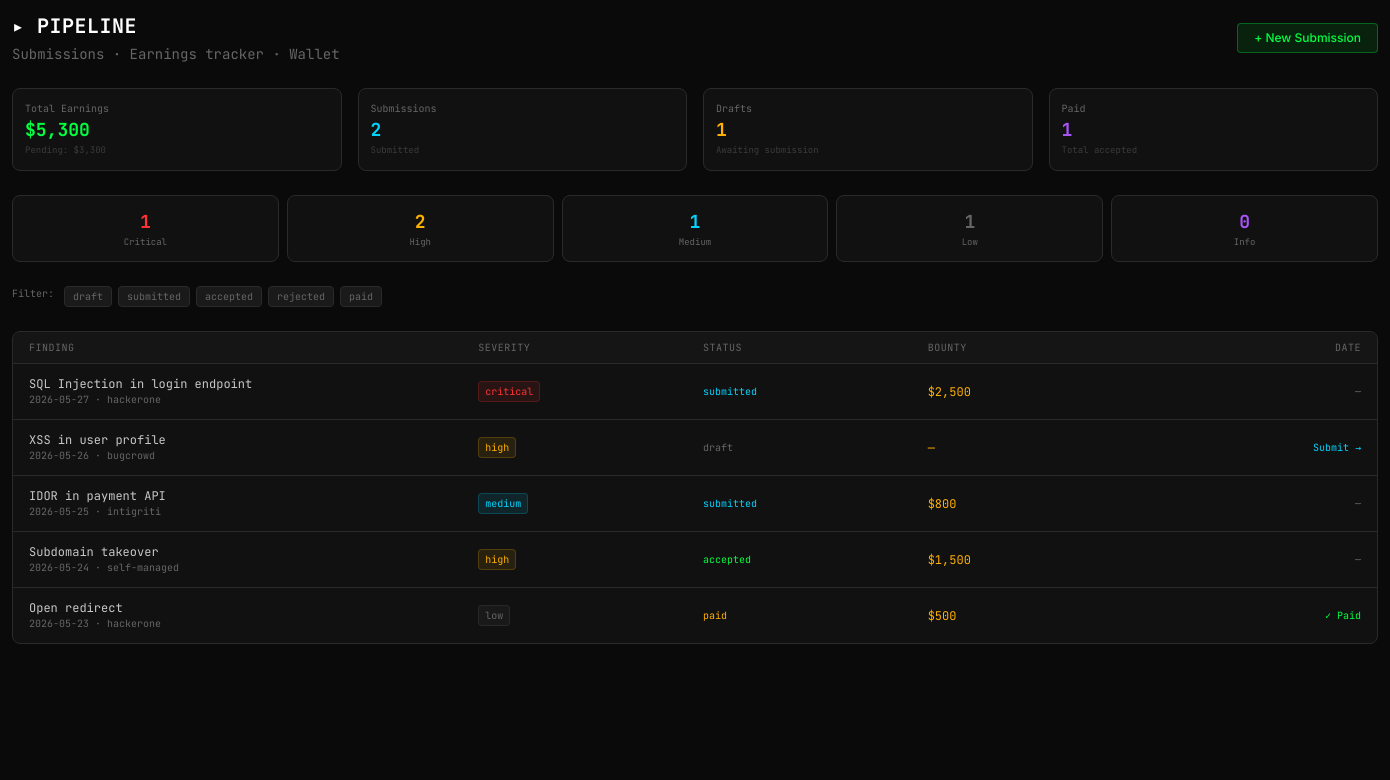
PipelinePage › opens the report form when clicking New Submission
What coordinates should you click on to do the following:
click the button "+ New Submission"
I would click on:
 (1308, 38)
Its box is [1237,23,1378,53].
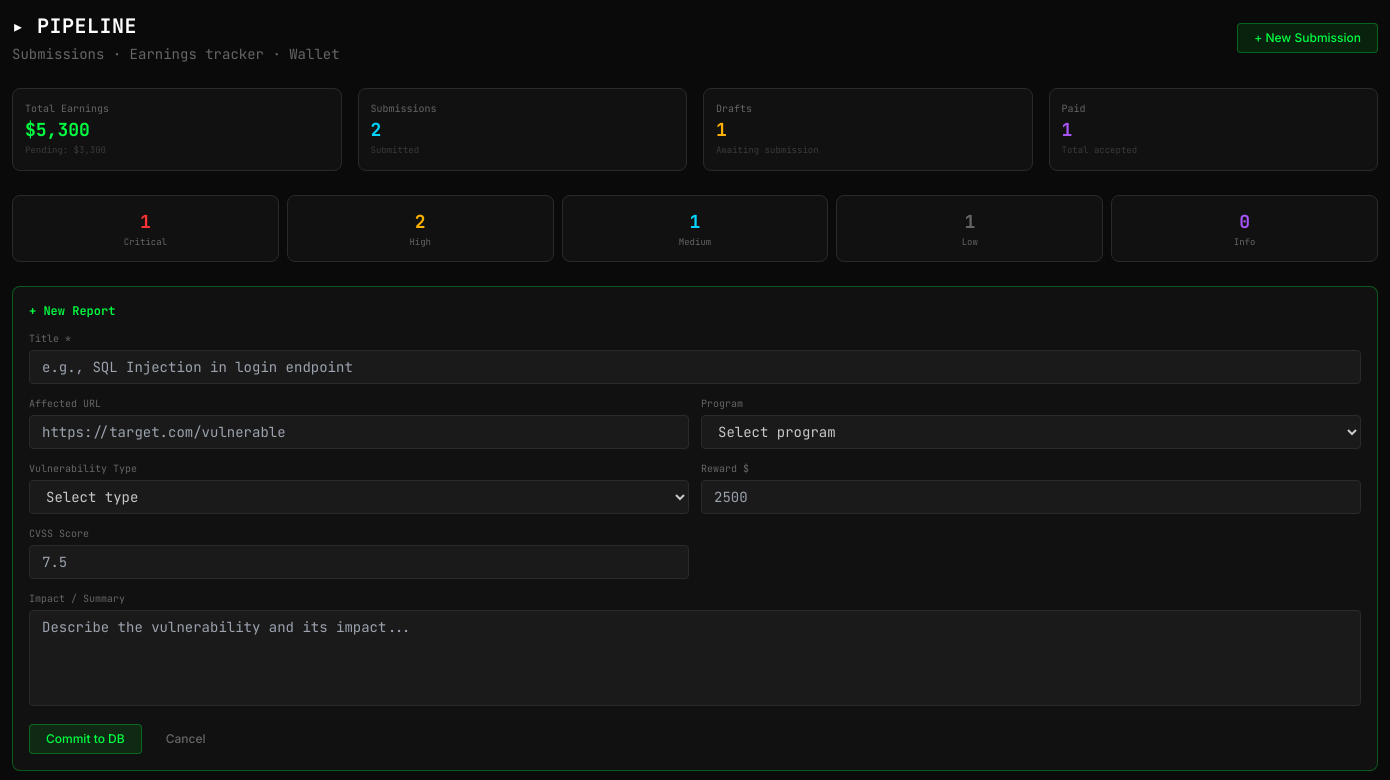
Expected: the heading "+ New Report" is shown, [29,303,115,319]
Expected: the field with placeholder "e.g., SQL Injection in login endpoint" is shown, [29,350,1361,384]
Expected: the button "Commit to DB" is shown, [29,724,142,754]
